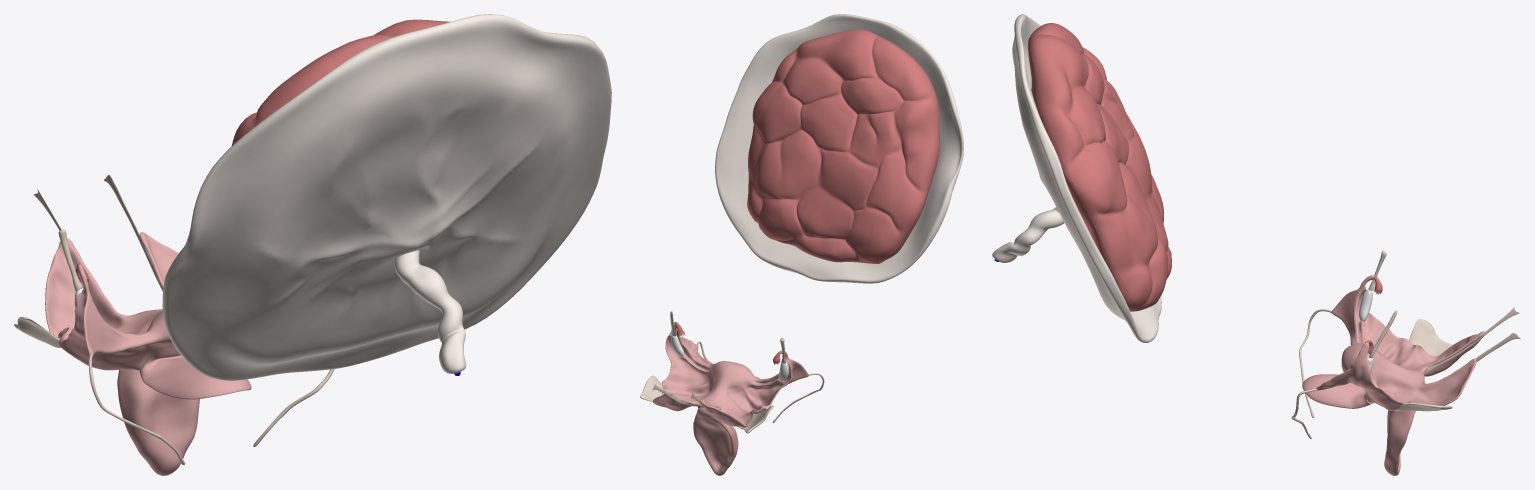
File: reproductive-meshopt.glb
3 renders of one model, left to right at view 1: azimuth 30°, elevation 25°; view 2: azimuth 150°, elevation 25°; view 3: azimuth 270°, elevation 25°, orthographic. The views are drawn at different scales.
Visible parts, largest first — view 1: VH_F_amnion, VH_F_broad_ligament, VH_F_vagina, VH_F_basal_plate, VH_F_umbilical_cord, VH_F_uterovesical_pouch, VH_F_mesosalpinx_R, VH_F_right_cardinal_ligament_of_uterus; view 2: VH_F_basal_plate, VH_F_amnion, VH_F_broad_ligament, VH_F_vagina, VH_F_cervicovaginal_junction, VH_F_left_cardinal_ligament_of_uterus, VH_F_mesosalpinx_L; view 3: VH_F_basal_plate, VH_F_broad_ligament, VH_F_amnion, VH_F_chorionic_plate, VH_F_uterovesical_pouch, VH_F_umbilical_cord, VH_F_vagina, VH_F_right_cardinal_ligament_of_uterus.
Boxes of the visible parts, <box> form: VH_F_amnion: <box>162,14,611,380</box>; VH_F_broad_ligament: <box>45,232,178,370</box>; VH_F_vagina: <box>117,370,199,475</box>; VH_F_basal_plate: <box>231,19,450,146</box>; VH_F_umbilical_cord: <box>394,250,466,373</box>; VH_F_uterovesical_pouch: <box>139,344,251,399</box>; VH_F_mesosalpinx_R: <box>74,264,152,345</box>; VH_F_right_cardinal_ligament_of_uterus: <box>14,316,60,347</box>; VH_F_basal_plate: <box>747,29,938,263</box>; VH_F_amnion: <box>715,14,963,283</box>; VH_F_broad_ligament: <box>652,336,808,427</box>; VH_F_vagina: <box>693,421,738,475</box>; VH_F_cervicovaginal_junction: <box>694,407,731,428</box>; VH_F_left_cardinal_ligament_of_uterus: <box>640,375,662,401</box>; VH_F_mesosalpinx_L: <box>671,322,711,371</box>; VH_F_basal_plate: <box>1029,23,1171,308</box>; VH_F_broad_ligament: <box>1316,289,1484,410</box>; VH_F_amnion: <box>1012,14,1161,342</box>; VH_F_chorionic_plate: <box>1028,34,1143,311</box>; VH_F_uterovesical_pouch: <box>1302,365,1372,408</box>; VH_F_umbilical_cord: <box>992,207,1064,262</box>; VH_F_vagina: <box>1384,410,1413,475</box>; VH_F_right_cardinal_ligament_of_uterus: <box>1409,319,1452,355</box>.
Size of the model in its own units: 0.2509 by 0.3622 by 0.3933.
